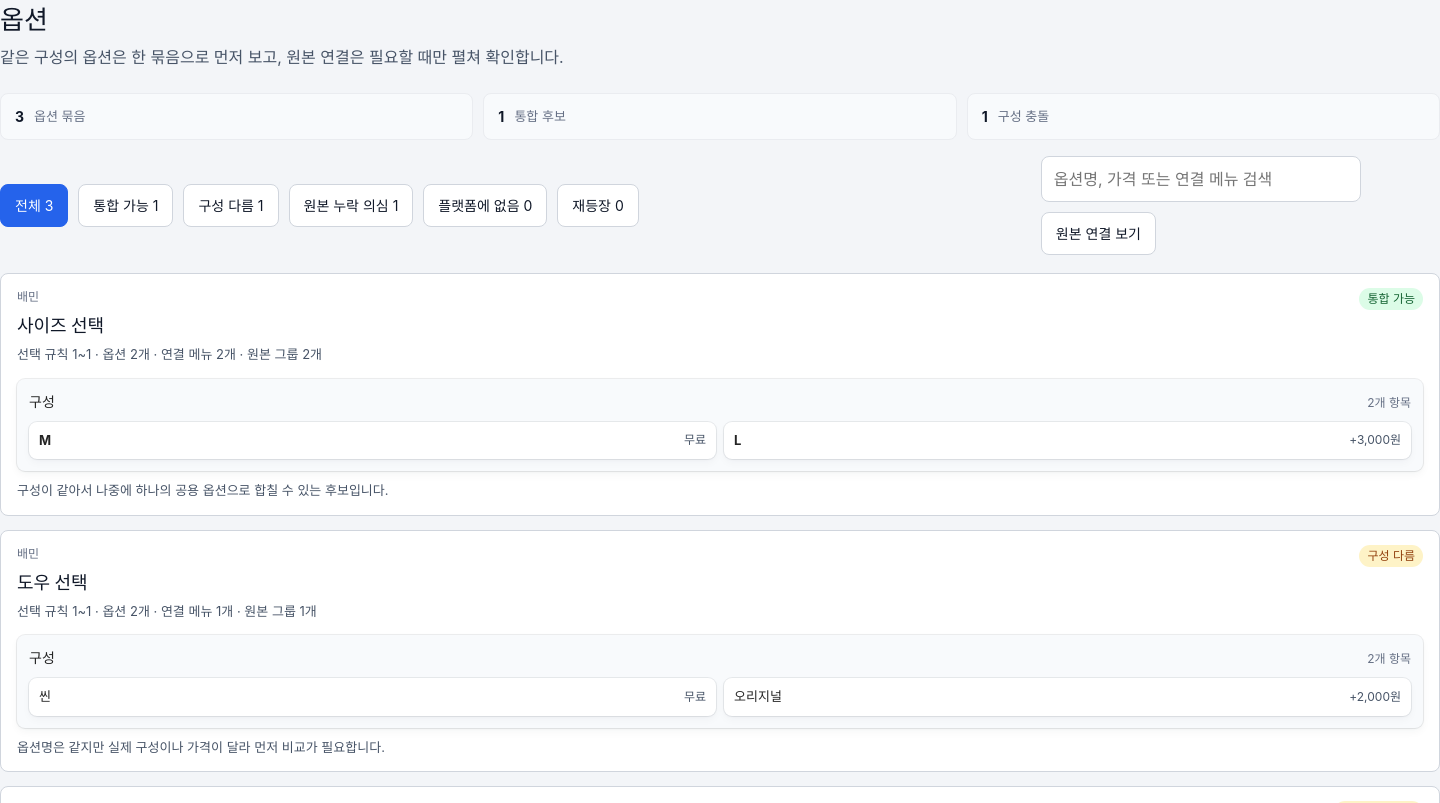
Test: OptionPage › filters option bundles by shape conflicts and search text
expect the heading "도우 선택" is shown: met, box [17, 572, 88, 592]
Click the button "구성 다름 1" at (231, 206), box [184, 184, 279, 227]
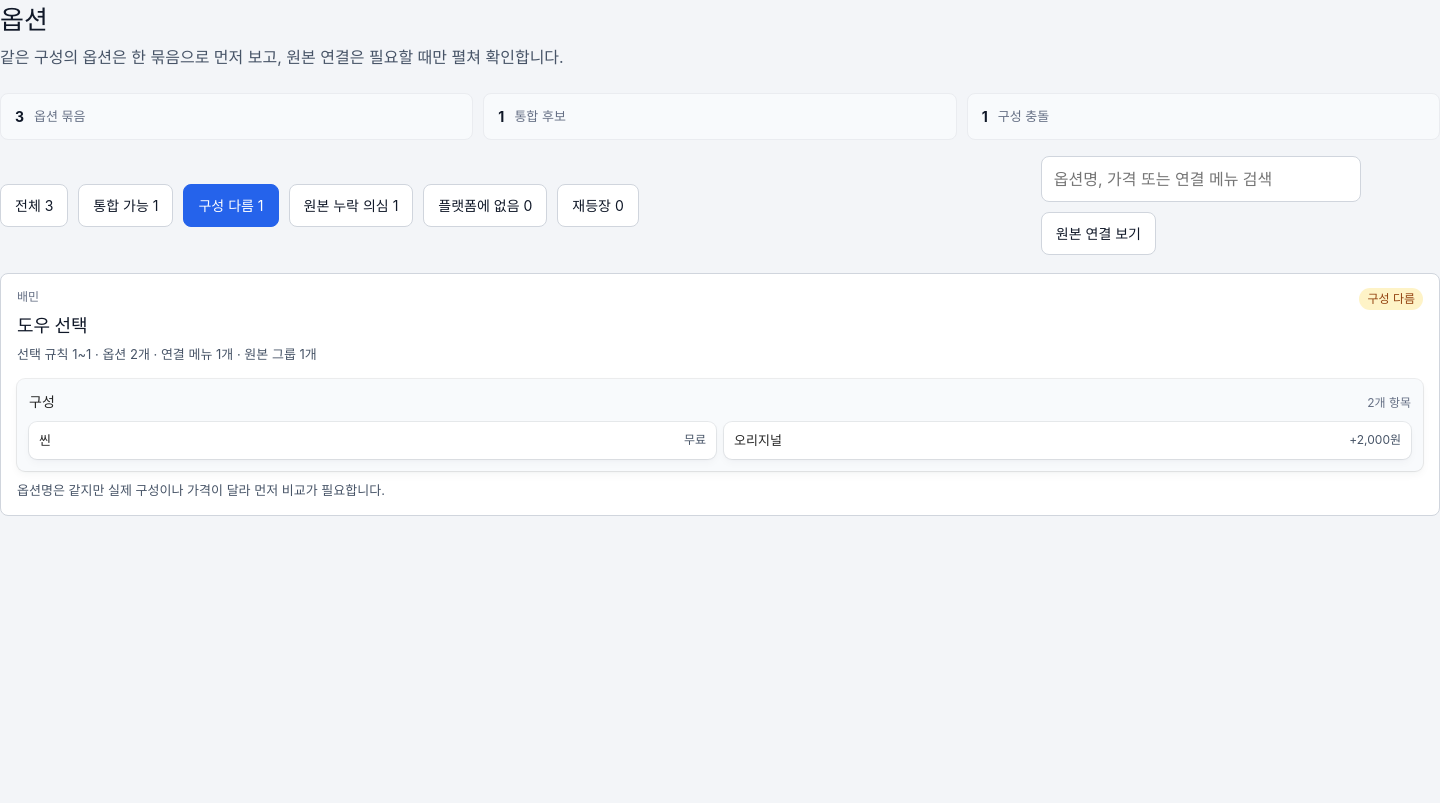
expect the heading "도우 선택" is shown: met, box [17, 315, 88, 336]
expect the heading "사이즈 선택" is gone: met
Type "콰트로" into the search field with placeholder "옵션명, 가격 또는 연결 메뉴 검색" at (1201, 179), box [1041, 156, 1361, 202]
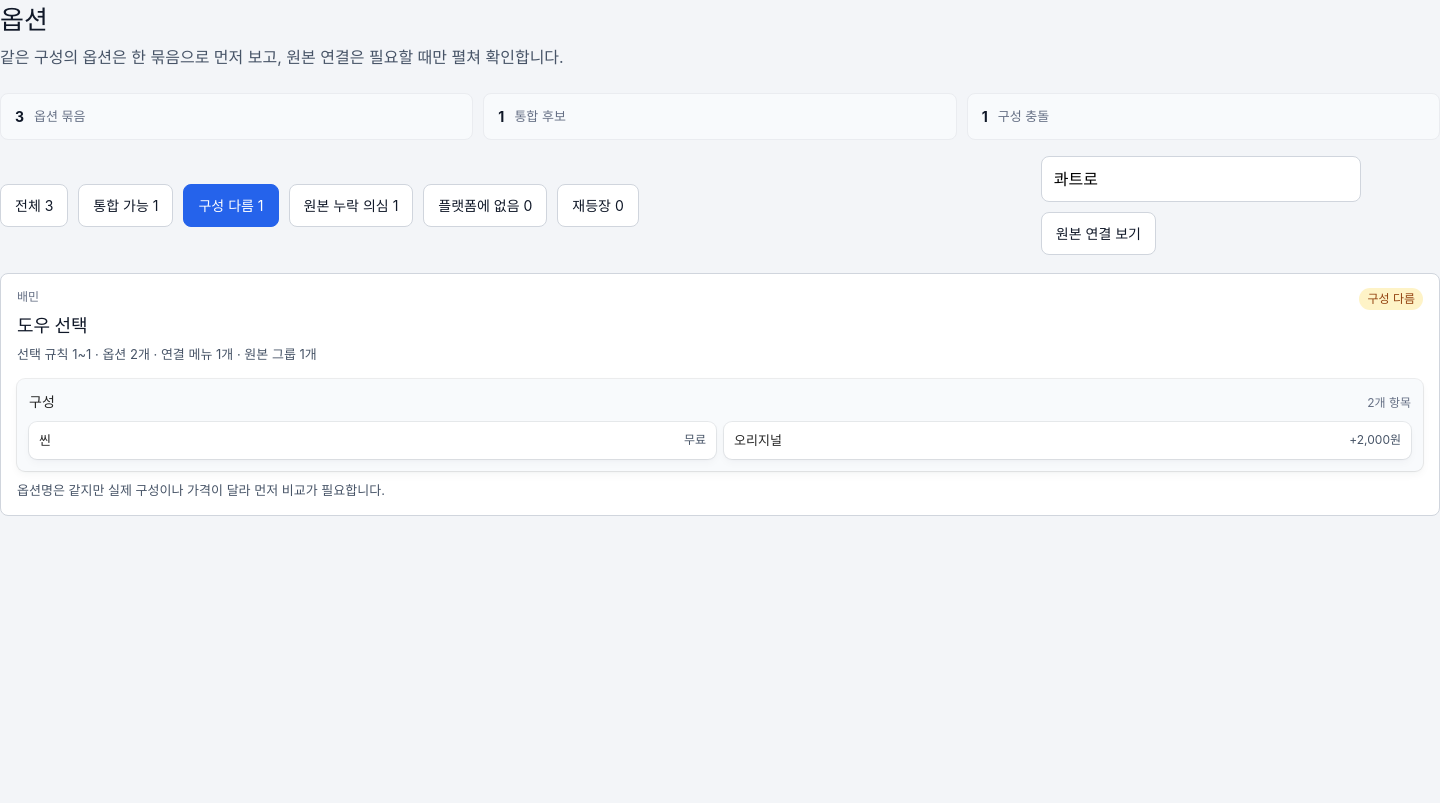
expect the heading "도우 선택" is shown: met, box [17, 315, 88, 336]
Replace the text in the search field with placeholder "옵션명, 가격 또는 연결 메뉴 검색" with "없는 검색어" at (1201, 179), box [1041, 156, 1361, 202]
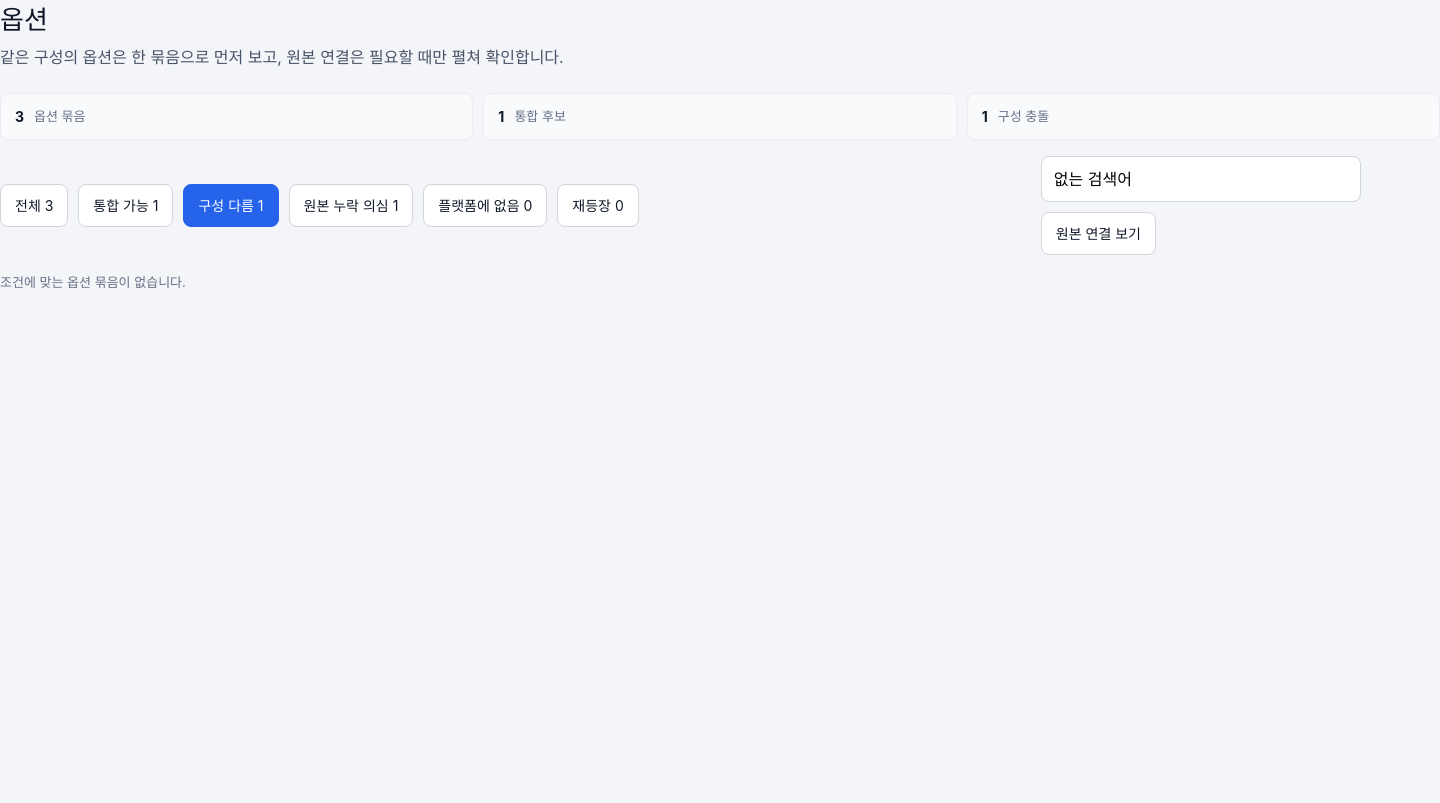
expect the text "조건에 맞는 옵션 묶음이 없습니다." is shown: met, box [0, 274, 186, 290]
